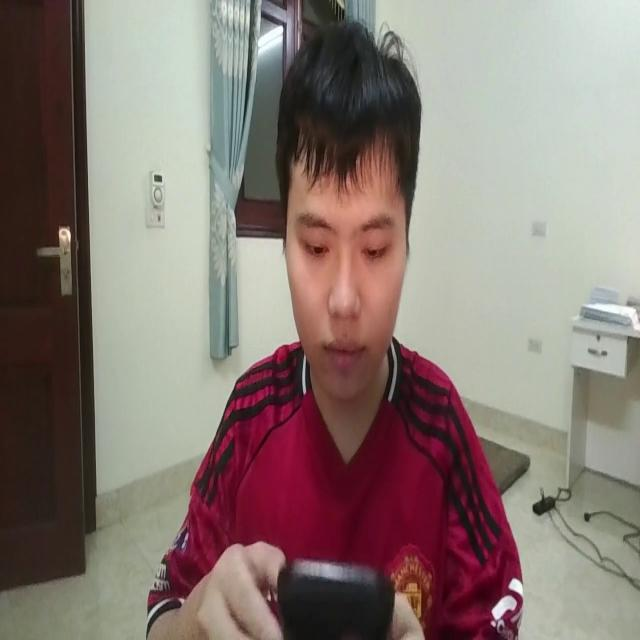phone: (274, 539, 395, 640)
student: (150, 15, 530, 640)
